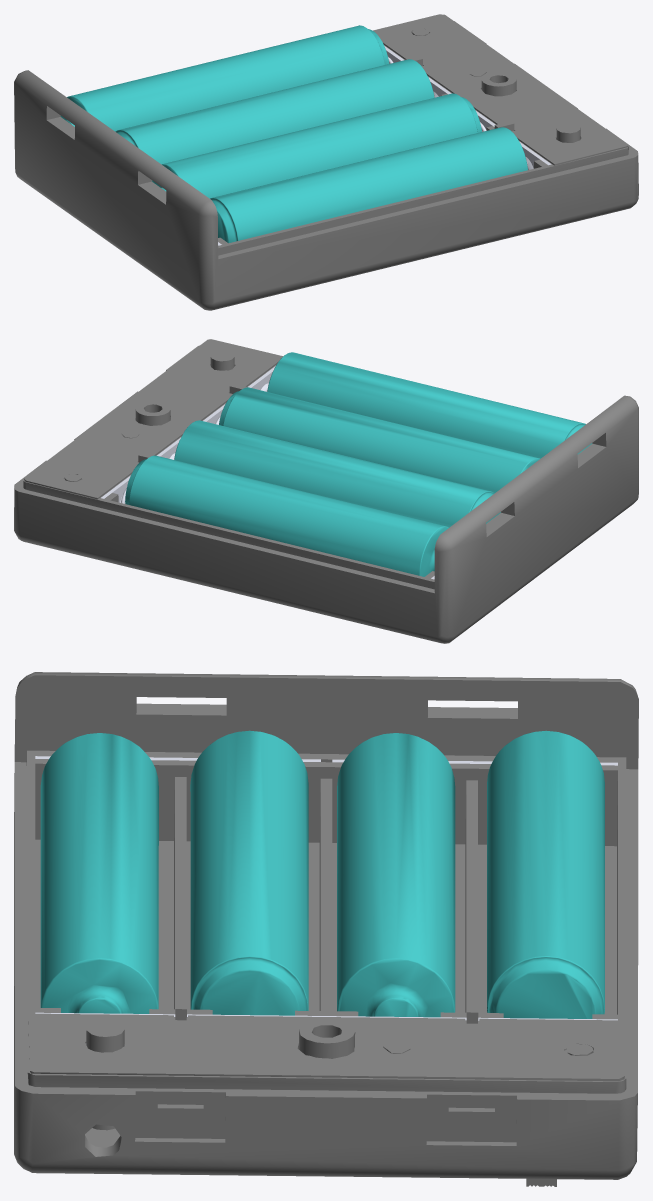
3 renders of one model, top to bottom at view 1: azimuth 30°, elevation 25°; view 2: azimuth 150°, elevation 25°; view 3: azimuth 270°, elevation 25°, orthographic. The views are drawn at different scales.
Parts seen in each view (by area): view 1: bh4; view 2: bh4; view 3: bh4.
Boxes of the visible parts, x1,y1,x2,y2 form: bh4: [14, 14, 638, 310]; bh4: [14, 339, 638, 643]; bh4: [14, 672, 638, 1186].
Bounding box in the file's own units: 6.3 × 1.8 × 4.86.
